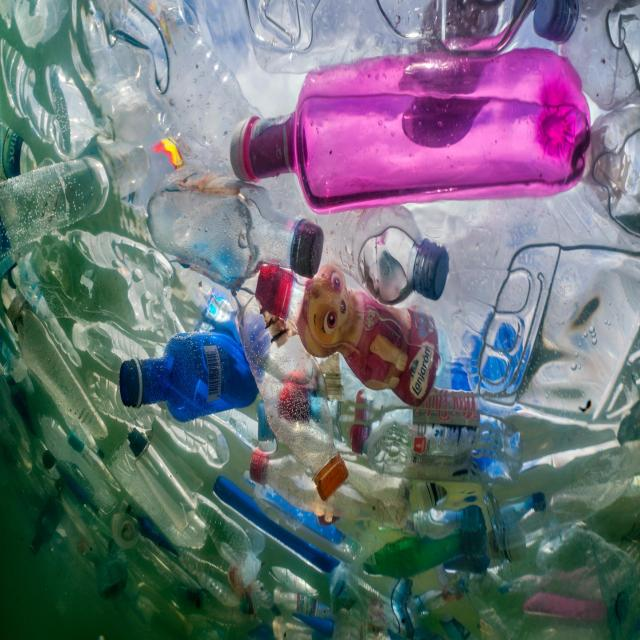plastic_bottle: (198, 40, 602, 231), (249, 259, 448, 417), (123, 328, 291, 427), (8, 149, 160, 254)
